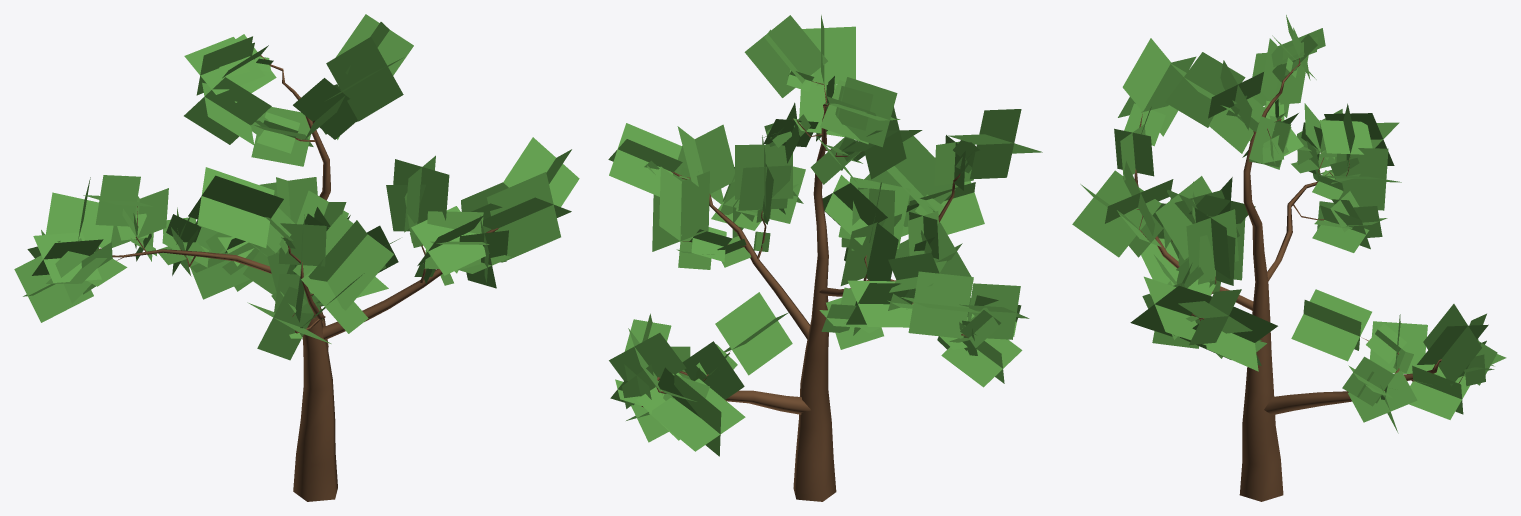
The model's file is tree-deciduous-a.glb.
3 views of the same model, side by side, from view 1: azimuth 30°, elevation 25°; view 2: azimuth 150°, elevation 25°; view 3: azimuth 270°, elevation 25° (orthographic). The views are drawn at different scales.
Bounding box in the file's own units: 28.14 × 26.07 × 22.66.
